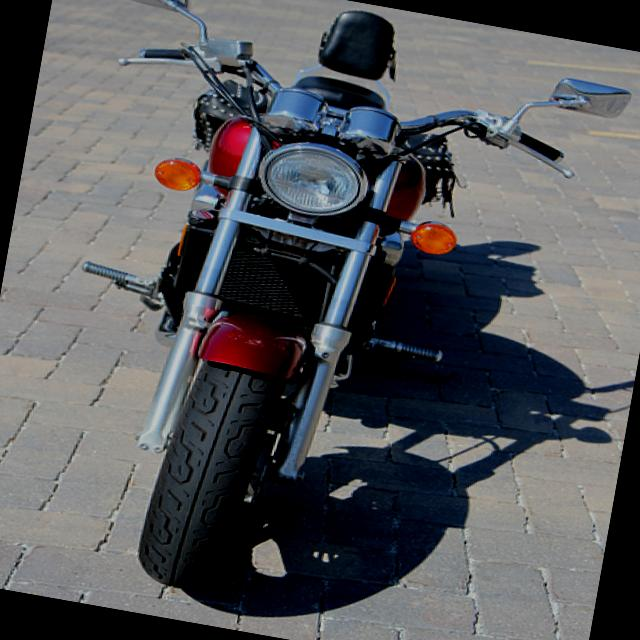Vehicle: (15, 0, 639, 640)
